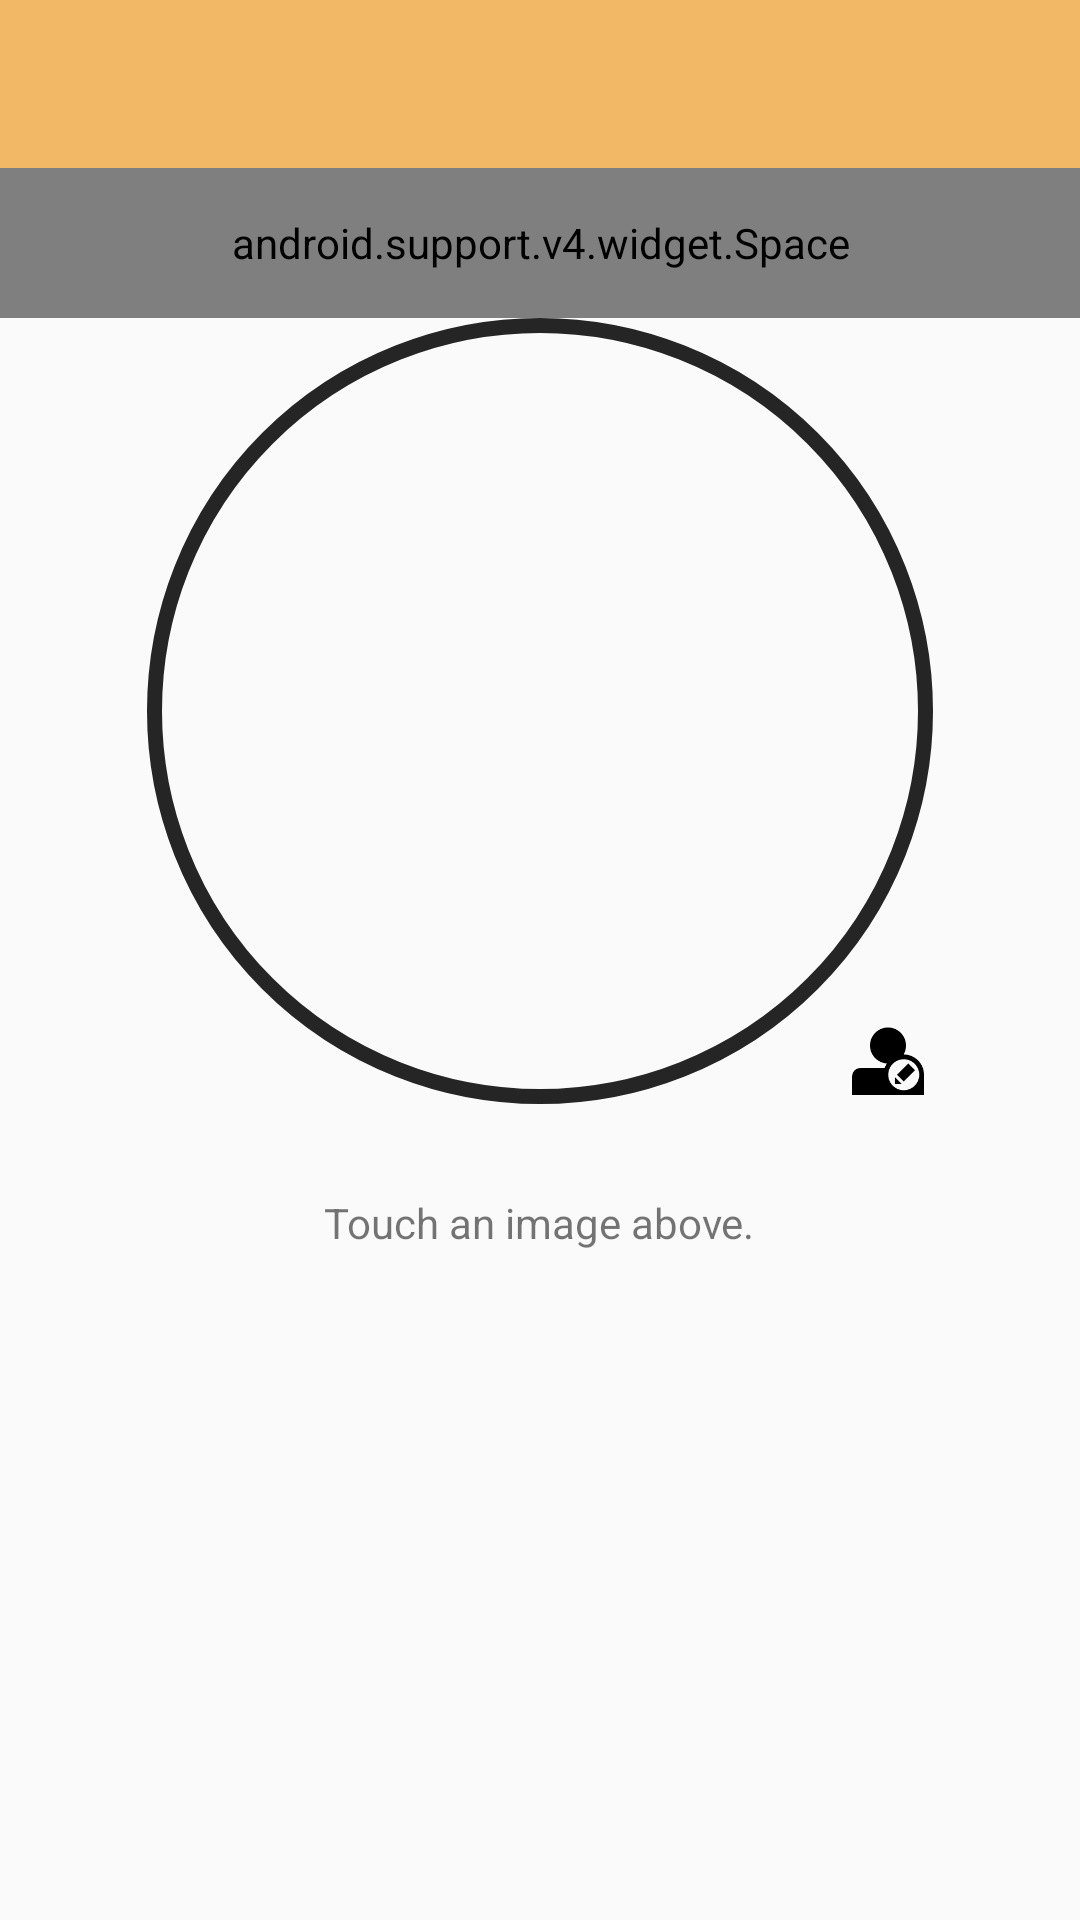

Screen size 1080w x 1920h. Icon name, then its box in pixels as bbox=[x1, y1, x2, y2]:
edit user profile: bbox=[852, 1027, 924, 1095]
